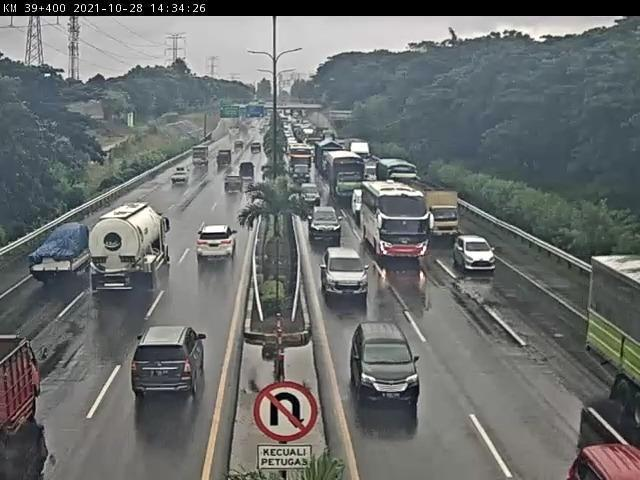bus: (360, 181, 431, 262)
car: (351, 323, 424, 408), (132, 325, 207, 397), (322, 247, 370, 299), (454, 234, 498, 276), (196, 225, 240, 262), (310, 206, 345, 241), (298, 184, 324, 210), (351, 190, 368, 218), (171, 165, 192, 185), (225, 175, 246, 195)
truck: (91, 202, 176, 298), (1, 328, 53, 440), (28, 221, 95, 282), (419, 184, 463, 240), (326, 153, 366, 202), (376, 157, 423, 187)
